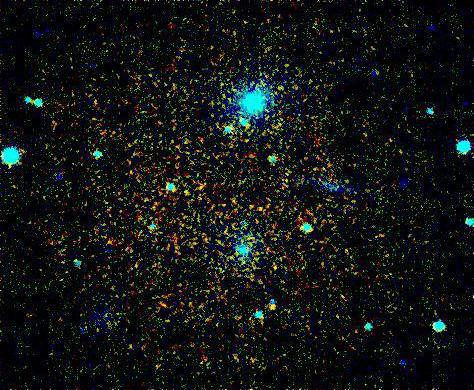star: (257, 294, 287, 324)
